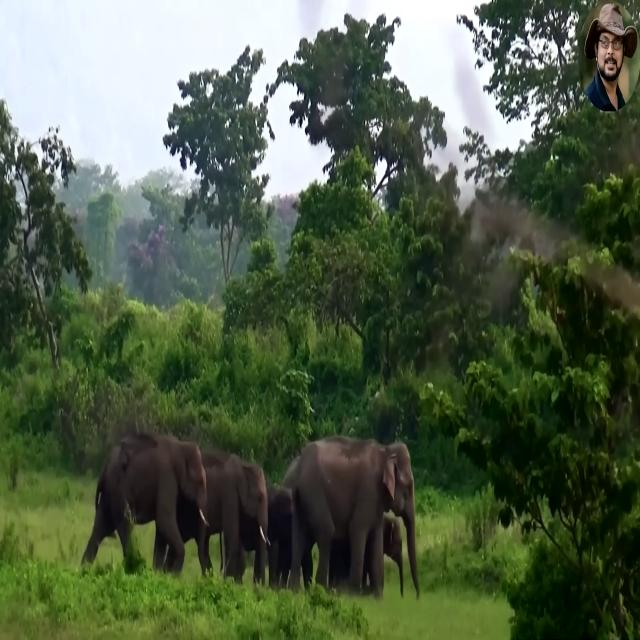Elephant: (281, 435, 420, 600), (80, 431, 210, 578), (154, 447, 270, 586)
